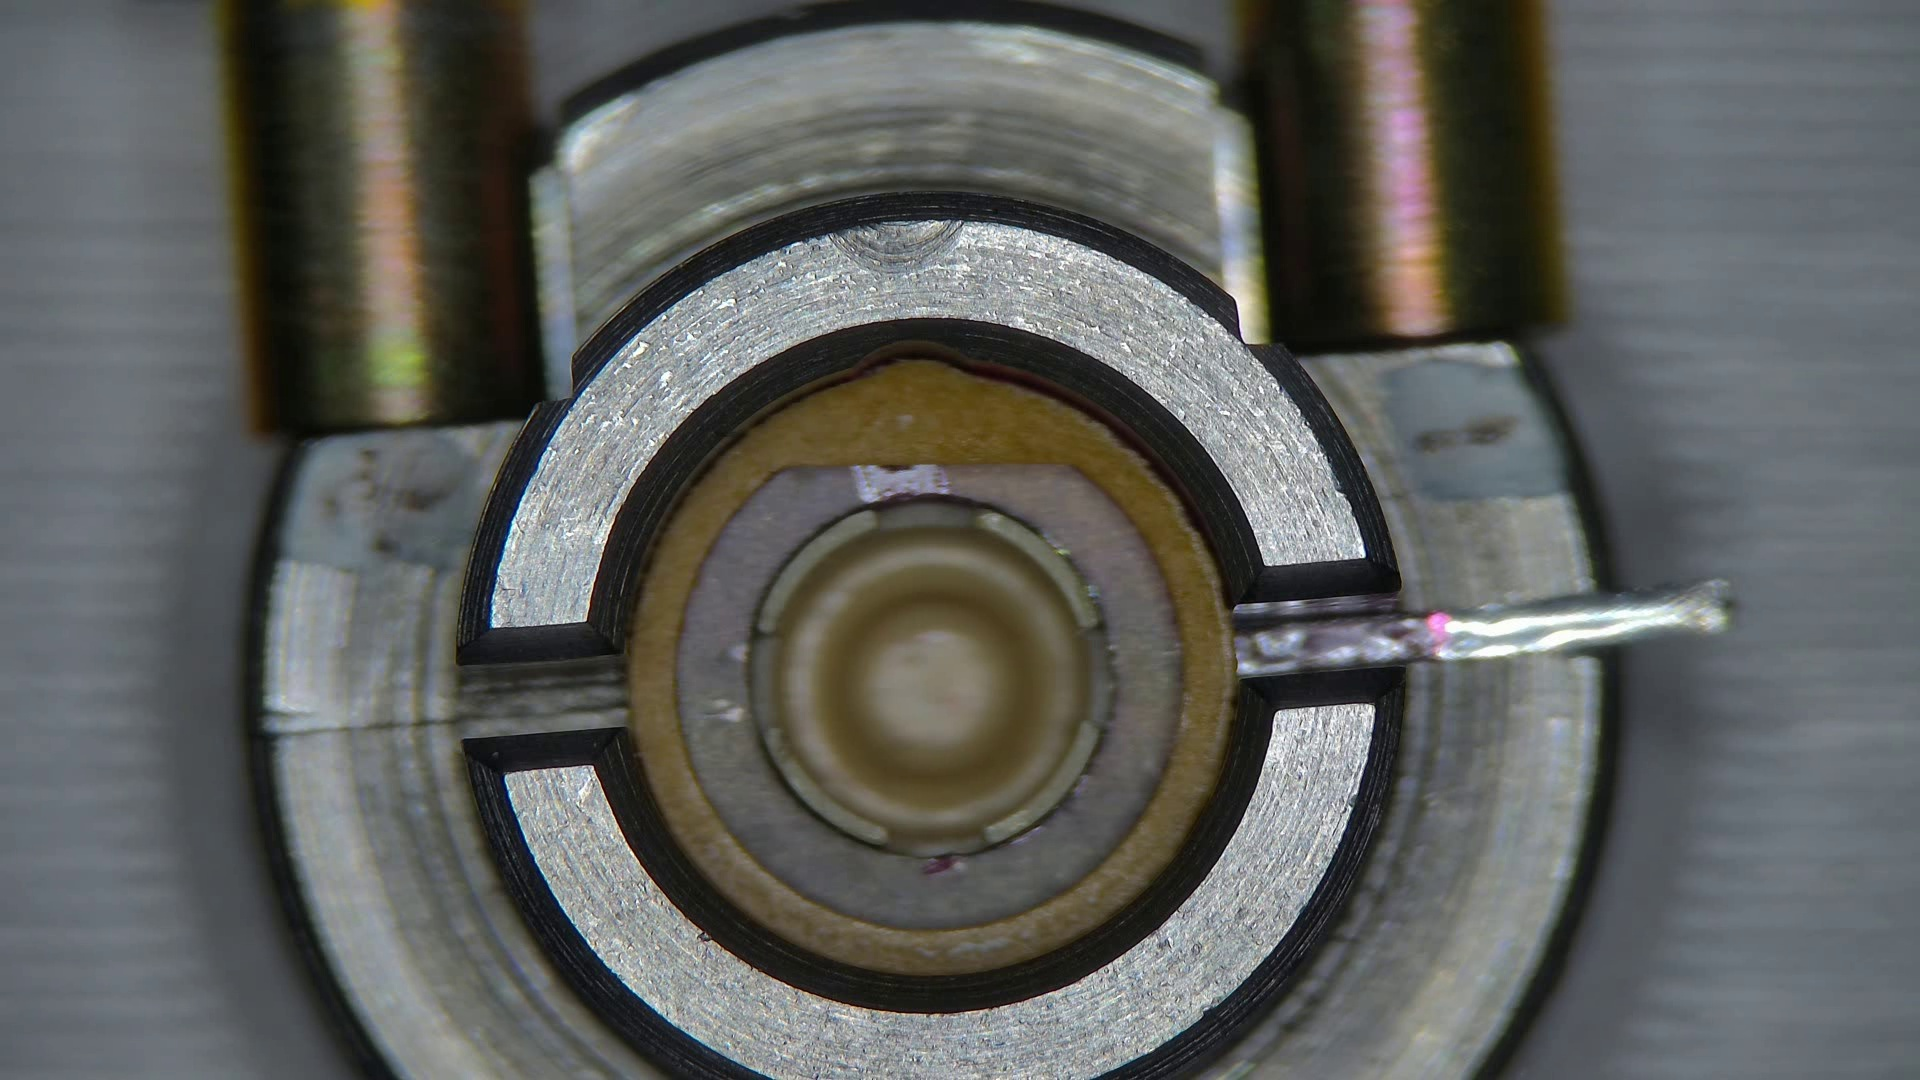YellowOring: (673, 462, 1178, 928)
redOring: (628, 360, 1233, 972)
